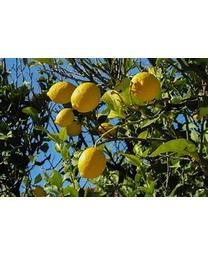lemon: (131, 73, 163, 102), (79, 149, 107, 180), (73, 83, 102, 112), (45, 81, 77, 104), (57, 109, 76, 125)
